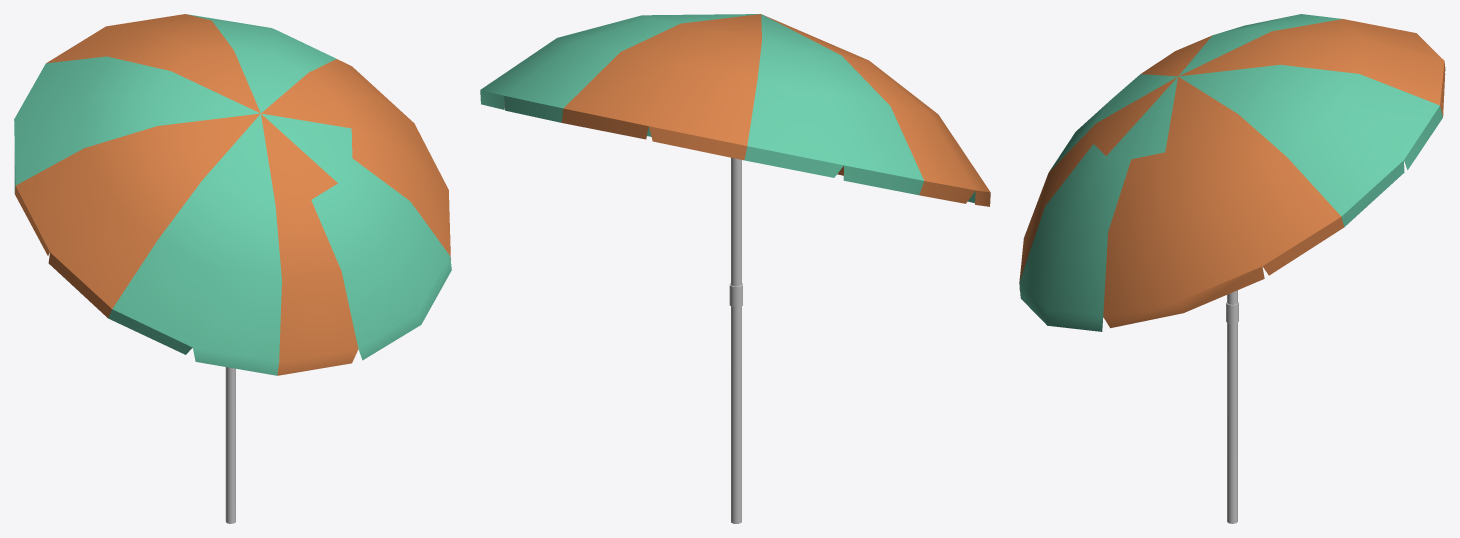
The model's file is umbrella-mint.glb.
3 renders of one model, left to right at view 1: azimuth 30°, elevation 25°; view 2: azimuth 150°, elevation 25°; view 3: azimuth 270°, elevation 25°, orthographic. The views are drawn at different scales.
Parts seen in each view (by area): view 1: umbrella-mint; view 2: umbrella-mint; view 3: umbrella-mint.
Boxes of the visible parts, x1,y1,x2,y2 form: umbrella-mint: (14, 14, 451, 523); umbrella-mint: (480, 14, 990, 523); umbrella-mint: (1019, 14, 1445, 523).
Size of the model in its own units: 2.47 by 2.7 by 2.2.
